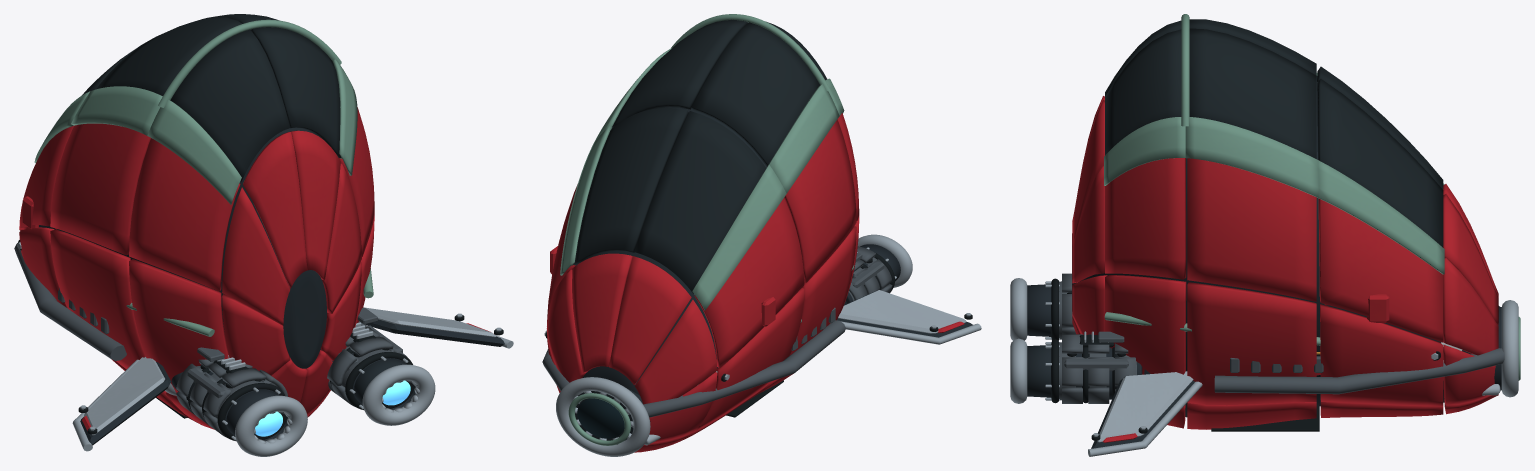
Rendered from phoenix.glb.
3 renders of one model, left to right at view 1: azimuth 30°, elevation 25°; view 2: azimuth 150°, elevation 25°; view 3: azimuth 270°, elevation 25°, orthographic. The views are drawn at different scales.
Visible parts, largest first — view 1: phoenix.001; view 2: phoenix.001; view 3: phoenix.001.
Part boxes in pixels (x1=…): phoenix.001: x1=14, y1=14, x2=513, y2=456; phoenix.001: x1=542, y1=14, x2=981, y2=456; phoenix.001: x1=1010, y1=14, x2=1520, y2=456.
Bounding box in the file's own units: 2.05 × 1.85 × 2.15.
Materials: 11 (11 with a texture image).
